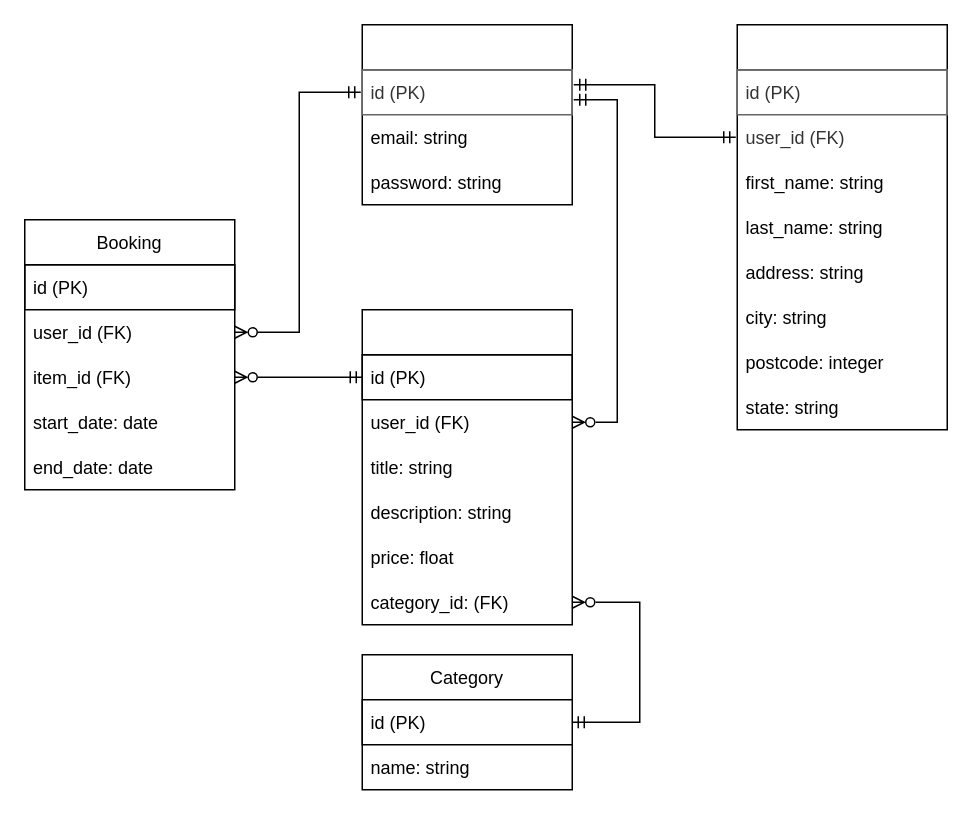
The diagram is 972 pixels wide and 815 high, and some of its shapes have lost their labels. The shapes that lost their labels are listed below. From the top down, each one's box as (x1, y1, x2, y2) in pixels, then its label:
(361, 23, 572, 205): User
(736, 23, 947, 430): Profile
(361, 308, 572, 625): Item
